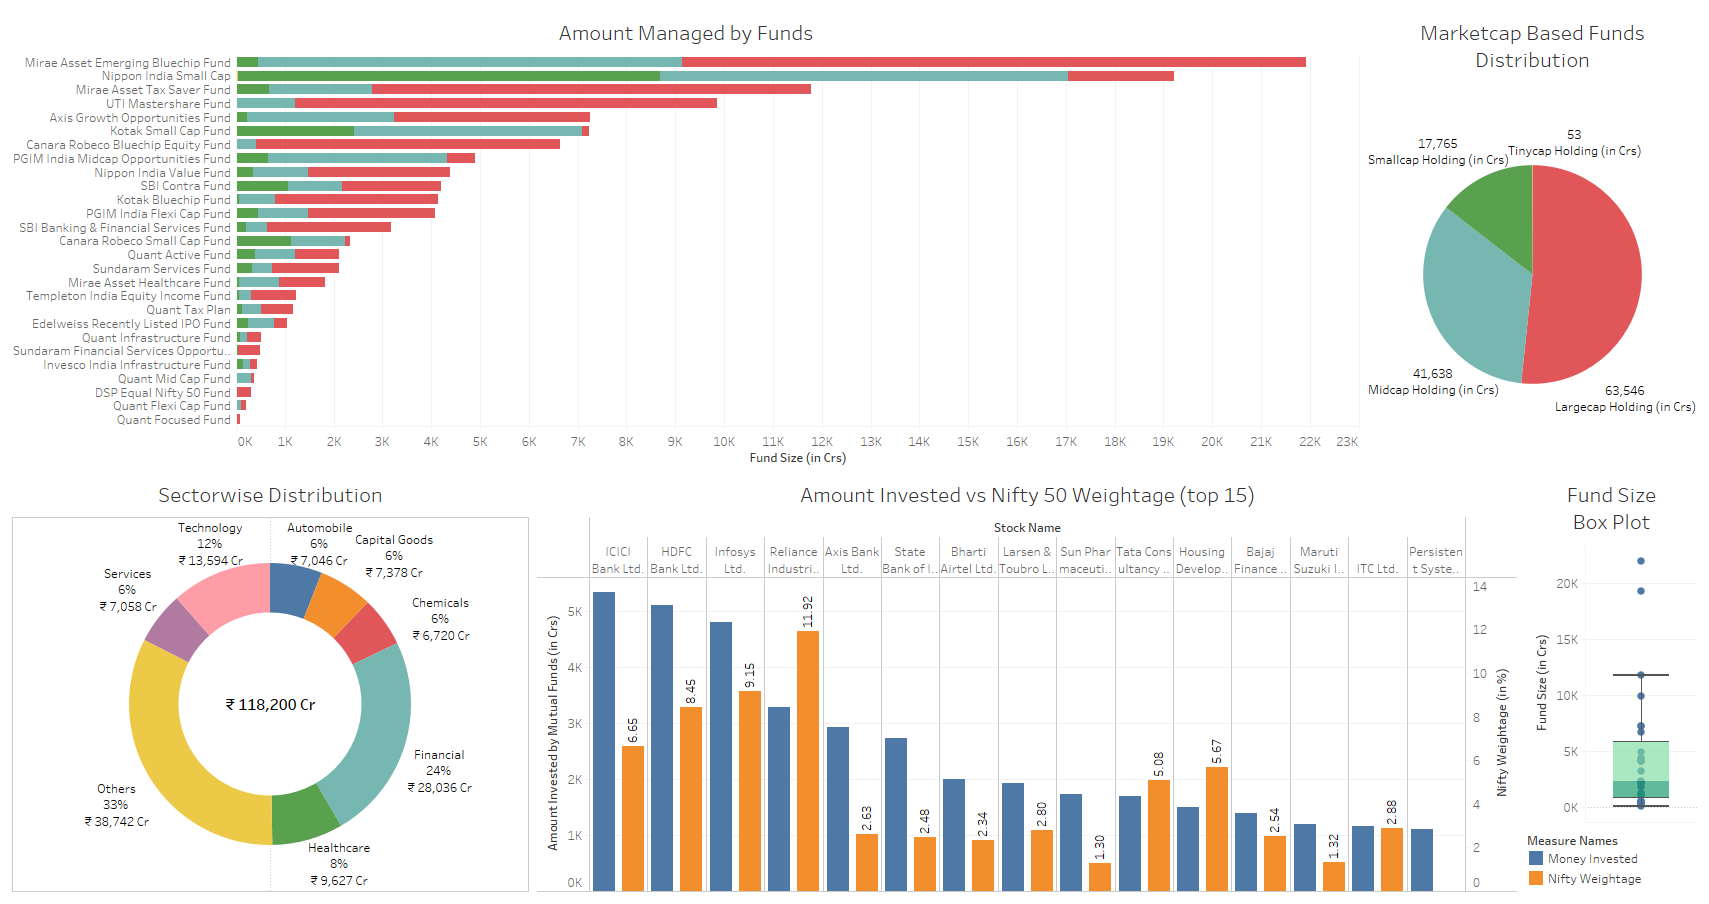

This screenshot's page, from the dashboard's own definition file:
{"tool":"tableau","page":{"name":"Mutual Fund Dashboard","canvas":[1000,1000],"units":"permille","ordinal":0},"visuals":[{"type":"worksheet","box":[0,0,1000,1000]},{"type":"worksheet","param":"horz","box":[4.7,8.8,990.6,982.3]},{"type":"worksheet","param":"horz","box":[4.7,8.8,990.6,982.3]},{"type":"worksheet","param":"horz","box":[4.7,8.8,990.6,982.3]},{"type":"worksheet","box":[4.7,8.8,990.6,982.3]},{"type":"worksheet","title":"All Fund Size","mark":"Automatic","rows":["Fund Name"],"box":[4.7,8.8,820.9,510.9]},{"type":"worksheet","title":"MarketCap Wise Pie","mark":"Pie","box":[825.6,8.8,169.7,510.9]},{"type":"worksheet","title":"Sector Wise Donut Distribution","mark":"Pie","cols":["Calculation_1698138566234550278","Calculation_1698138566234550278"],"box":[4.7,519.8,307.4,471.4]},{"type":"worksheet","title":"Popular stock vs. Nifty50 Weightage","mark":"Bar","rows":["Nifty Weightage"],"cols":["Stock Name"],"box":[312.1,519.8,578.5,471.4]},{"type":"worksheet","title":"Box Plot Fund Size","mark":"Circle","rows":["Fund Size (in Crs)"],"box":[890.5,519.8,104.8,393.8]},{"type":"worksheet","param":"vert","box":[890.5,913.6,104.8,77.5]},{"type":"worksheet","title":"Popular stock vs. Nifty50 Weightage","mark":"Bar","rows":["Nifty Weightage"],"cols":["Stock Name"],"param":"[federated.0dof6dx0zrp3m70zjr0q5171nfq2].[:Measure Names]","box":[890.5,913.6,104.8,77.5]}]}

Visuals, with their boxes on the dashboard's canvas, which has no fixed pixel size, in thousandths of its width and height (x1, y1, x2, y2). These are canvas units, not pixel positions in the 1709x904 screenshot, which may show the page scaled, cropped or inside an application window:
worksheet: detection(0, 0, 1000, 1000)
worksheet: detection(5, 9, 995, 991)
worksheet: detection(5, 9, 995, 991)
worksheet: detection(5, 9, 995, 991)
worksheet: detection(5, 9, 995, 991)
"All Fund Size" worksheet: detection(5, 9, 826, 520)
"MarketCap Wise Pie" worksheet (Pie marks): detection(826, 9, 995, 520)
"Sector Wise Donut Distribution" worksheet (Pie marks): detection(5, 520, 312, 991)
"Popular stock vs. Nifty50 Weightage" worksheet (Bar marks): detection(312, 520, 891, 991)
"Box Plot Fund Size" worksheet (Circle marks): detection(890, 520, 995, 914)
worksheet: detection(890, 914, 995, 991)
"Popular stock vs. Nifty50 Weightage" worksheet (Bar marks): detection(890, 914, 995, 991)
